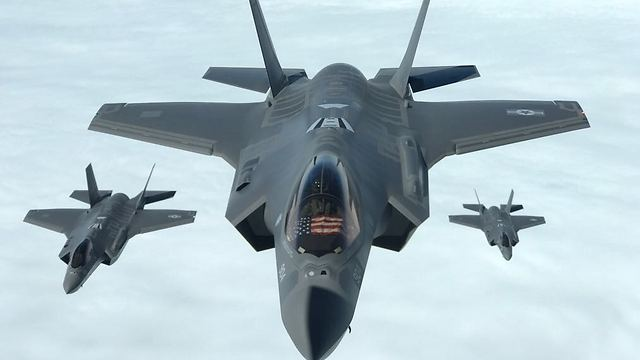F-35 Lightning: (117, 40, 488, 350), (19, 157, 201, 312), (454, 192, 539, 268)
